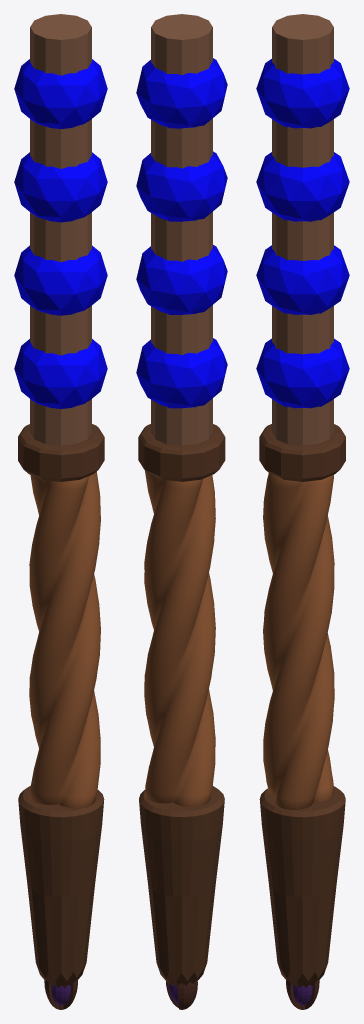
The model's file is Wand 837.glb.
3 views of the same model, side by side, from view 1: azimuth 90°, elevation 25°; view 2: azimuth 210°, elevation 25°; view 3: azimuth 270°, elevation 25° (orthographic).
Parts seen in each view (by area): view 1: GeneratedWand; view 2: GeneratedWand; view 3: GeneratedWand.
Part boxes in pixels (box(x1,y1,x2,y2)): GeneratedWand: box(14, 14, 107, 1009); GeneratedWand: box(136, 14, 227, 1009); GeneratedWand: box(256, 14, 349, 1009).
Size of the model in its own units: 0.0407 by 0.4966 by 0.0428.
